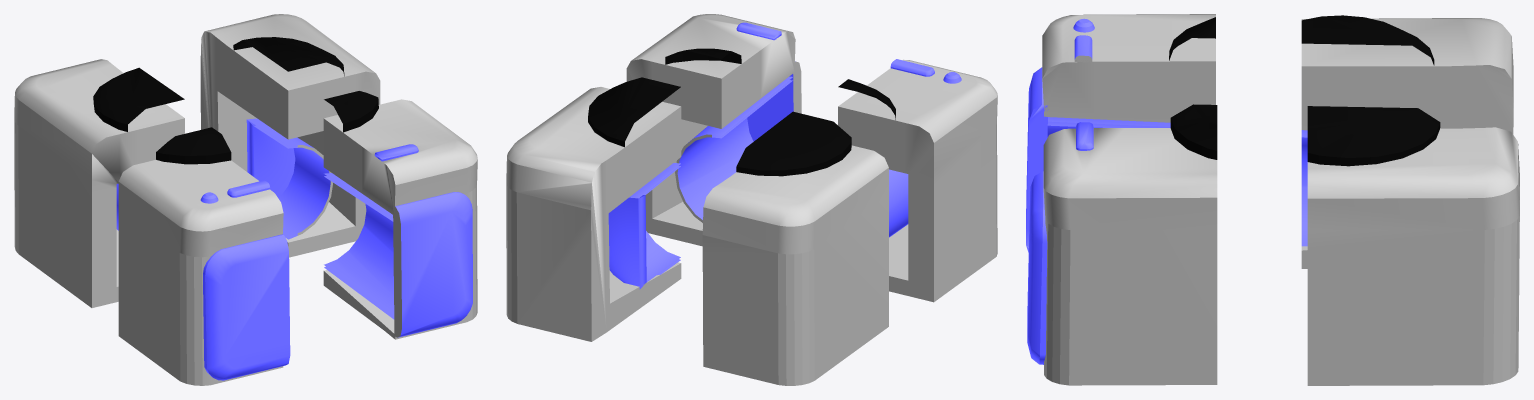
File: item_H.fbx
The picture shows the model from 3 angles, left to right: view 1: azimuth 30°, elevation 25°; view 2: azimuth 150°, elevation 25°; view 3: azimuth 270°, elevation 25°; orthographic projection. The views are drawn at different scales.
Parts seen in each view (by area): view 1: itemH_pCylinder124.003, itemH_pCylinder124.002, itemH_pCylinder124, itemH_pCylinder124.001; view 2: itemH_pCylinder124, itemH_pCylinder124.001, itemH_pCylinder124.003, itemH_pCylinder124.002; view 3: itemH_pCylinder124.001, itemH_pCylinder124.002, itemH_pCylinder124, itemH_pCylinder124.003.
Part boxes in pixels (x1,y1,x2,y2): itemH_pCylinder124.003: (118,127,290,385); itemH_pCylinder124.002: (323,91,477,339); itemH_pCylinder124: (14,59,184,307); itemH_pCylinder124.001: (200,14,380,257); itemH_pCylinder124: (702,111,888,385); itemH_pCylinder124.001: (506,77,681,341); itemH_pCylinder124.003: (838,59,997,302); itemH_pCylinder124.002: (626,14,801,246); itemH_pCylinder124.001: (1307,106,1519,385); itemH_pCylinder124.002: (1027,104,1217,385); itemH_pCylinder124: (1301,15,1513,268); itemH_pCylinder124.003: (1026,14,1215,252).
Size of the model in its own units: 451 by 270 by 530.
